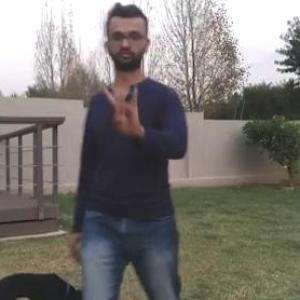takeoff-hand: (99, 74, 146, 140)
